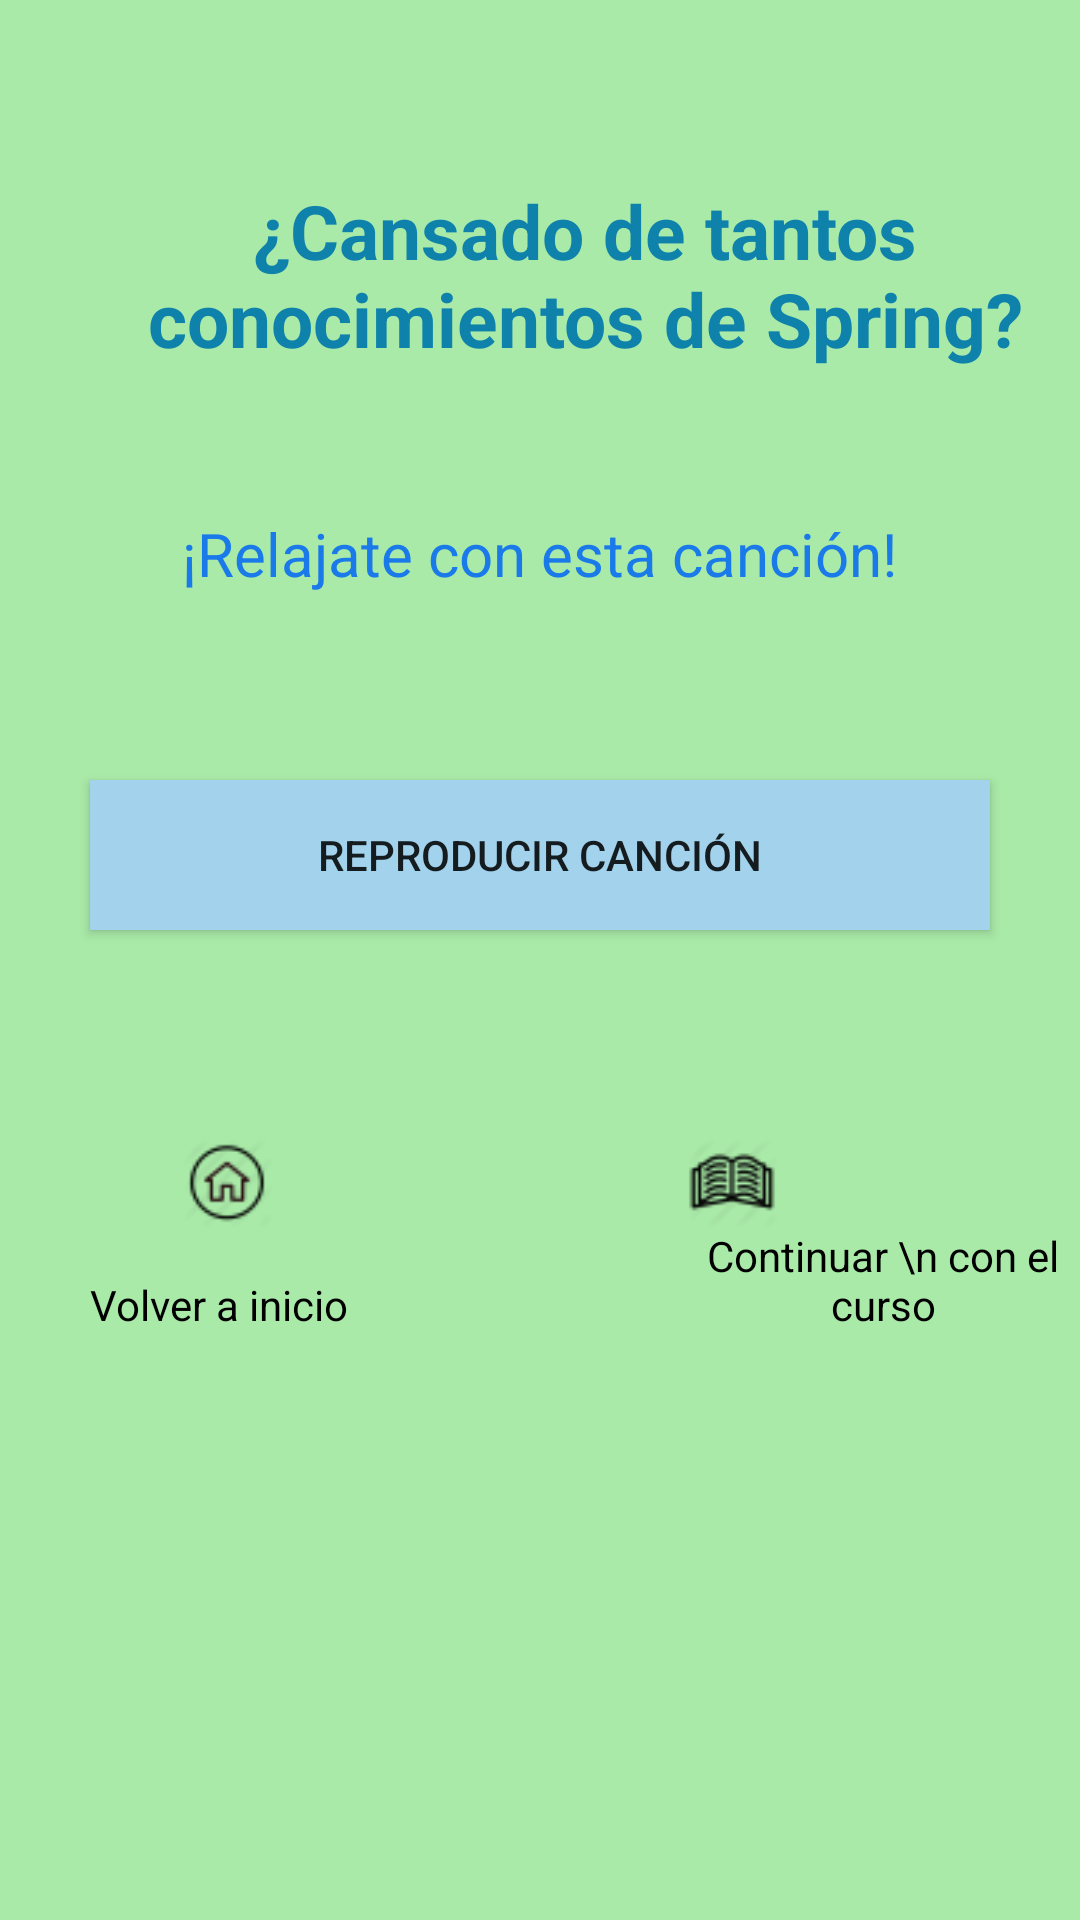

Named icons in this screenshot (1080*1920) and their bounding boxes, (x1, y1, x2, y2):
backhome: (189, 1144, 265, 1222)
chapteras: (689, 1153, 775, 1211)
